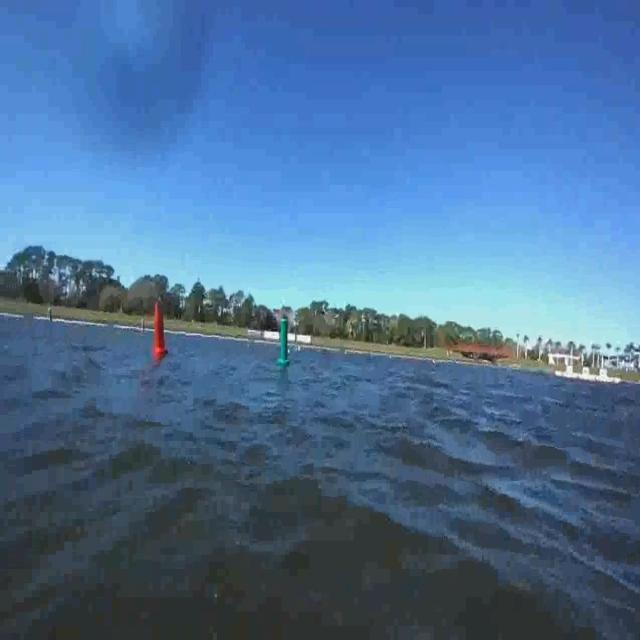green-column-buoy: (277, 320, 292, 368)
red-column-buoy: (152, 302, 167, 355)
